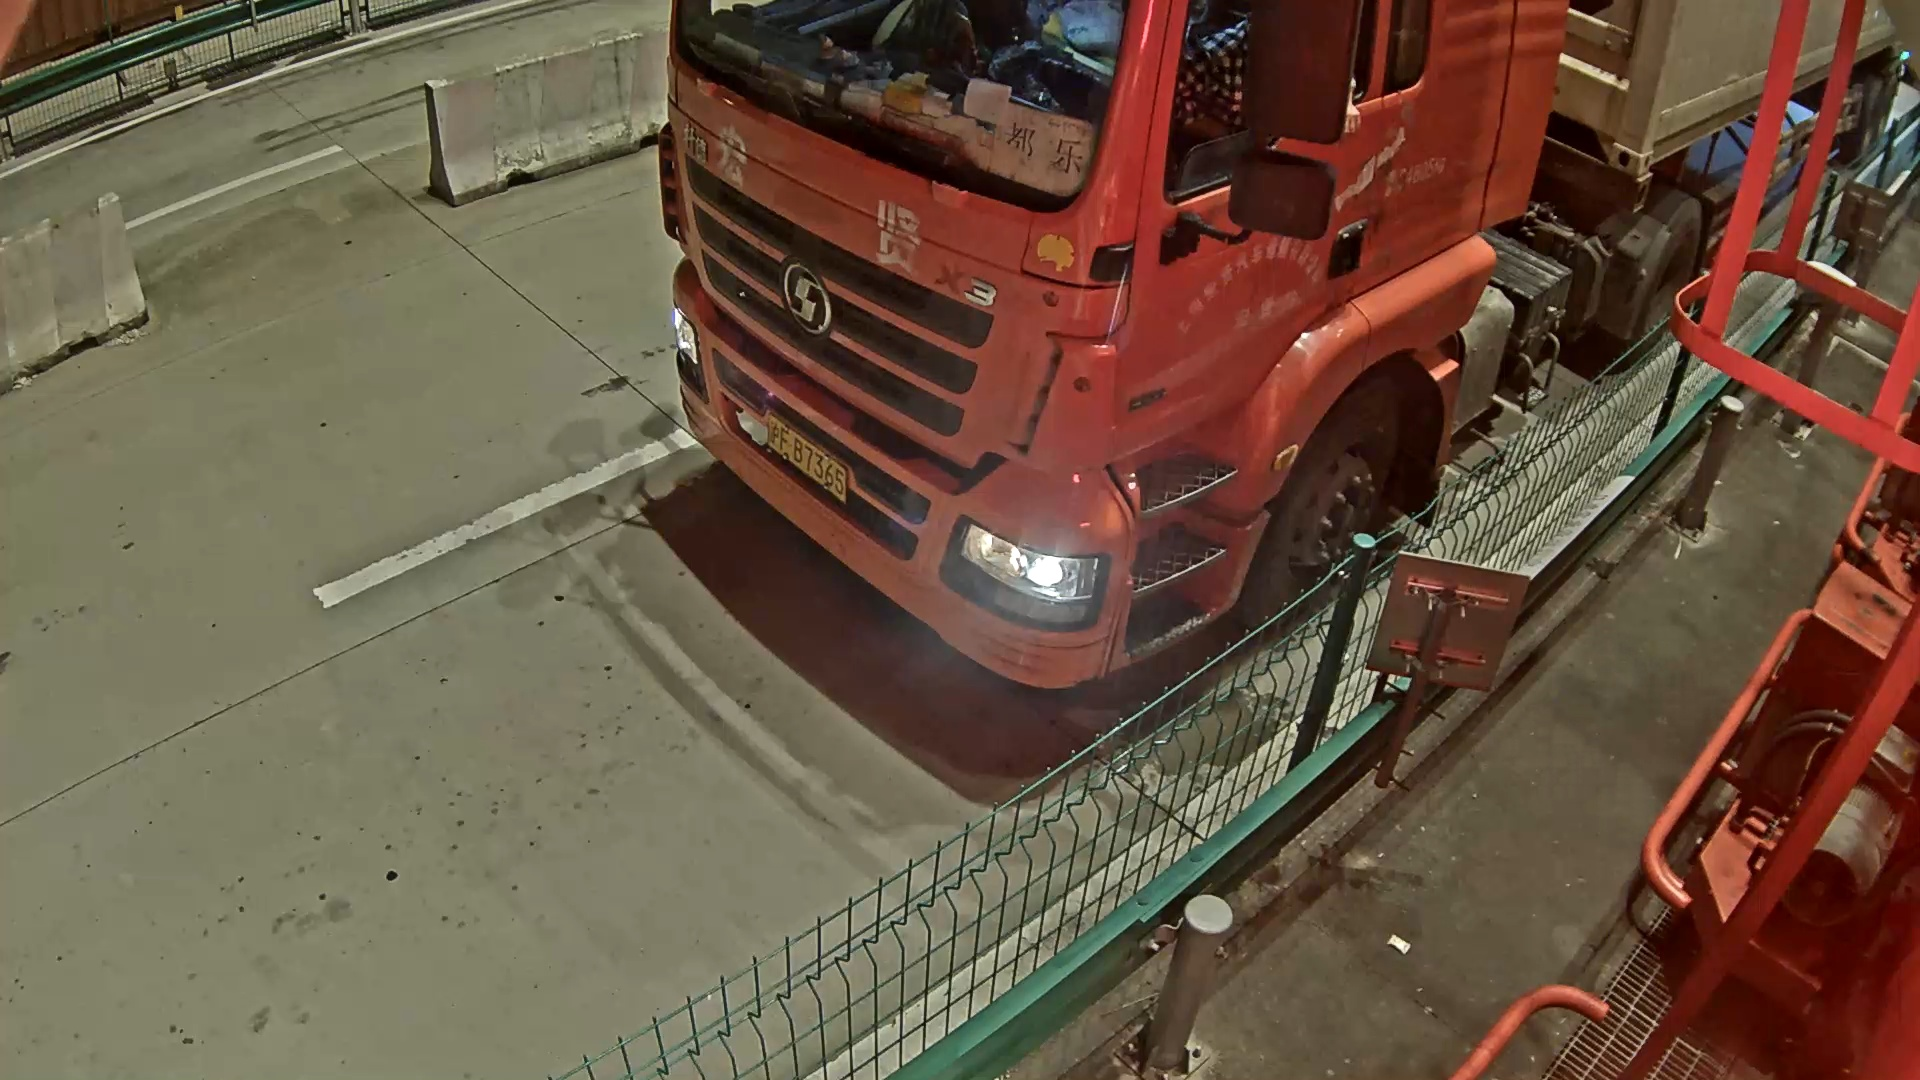head: (663, 1, 1568, 693)
plate: (765, 412, 844, 498)
